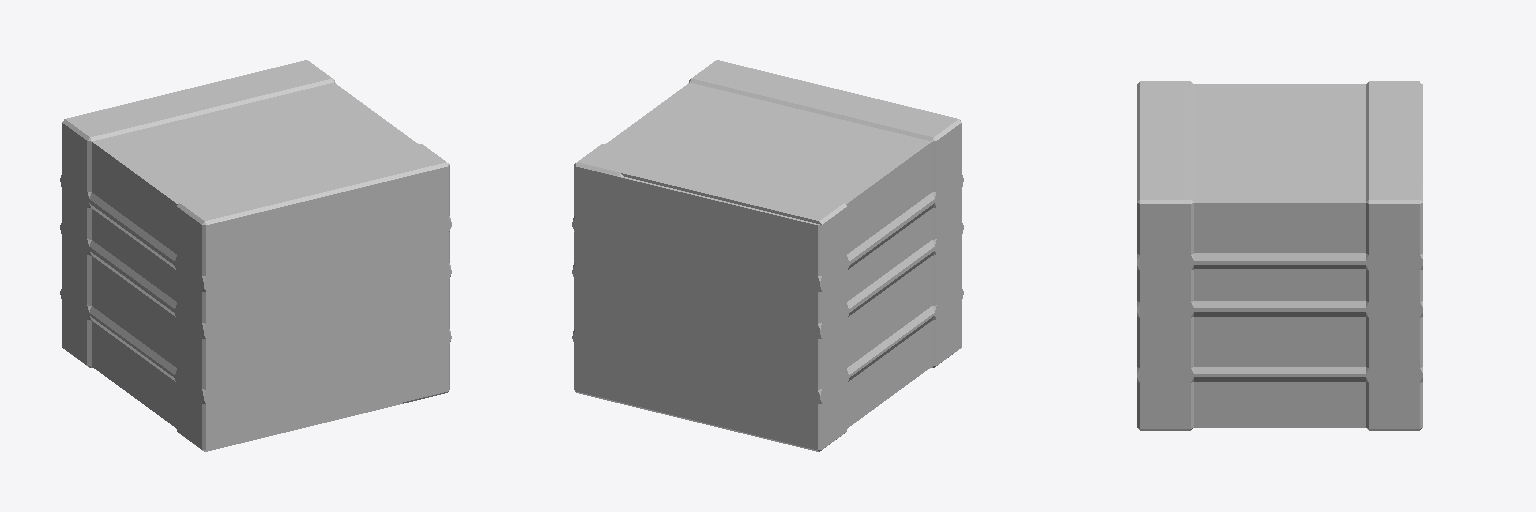
File: wall_block.obj
The picture shows the model from 3 angles: view 1: azimuth 30°, elevation 25°; view 2: azimuth 150°, elevation 25°; view 3: azimuth 270°, elevation 25°; orthographic projection.
Parts seen in each view (by area): view 1: Cube; view 2: Cube; view 3: Cube.
Part boxes in pixels (x1,y1,x2,y2): Cube: (60, 60, 451, 451); Cube: (572, 60, 963, 451); Cube: (1137, 81, 1422, 430).
Size of the model in its own units: 10 by 8.9 by 10.